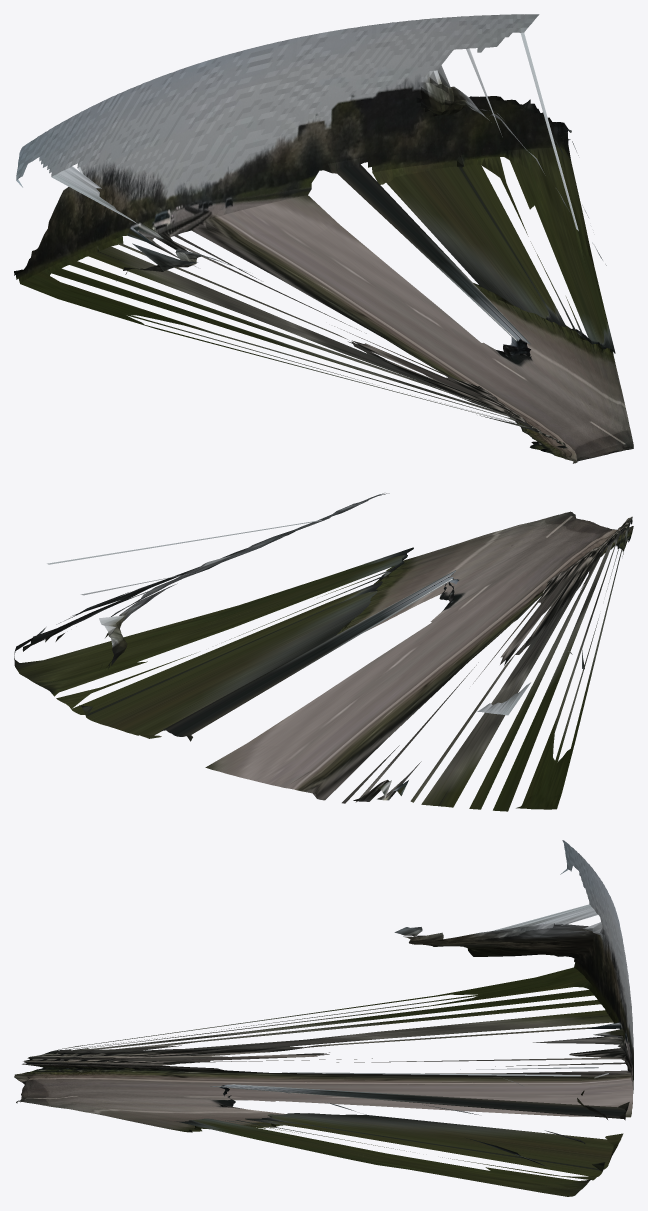
3 views of the same model, one above another, from view 1: azimuth 30°, elevation 25°; view 2: azimuth 150°, elevation 25°; view 3: azimuth 270°, elevation 25° (orthographic). The views are drawn at different scales.
Parts seen in each view (by area): view 1: defaultobject; view 2: defaultobject; view 3: defaultobject.
Boxes of the visible parts, <box> form: defaultobject: <box>14,14,633,463</box>; defaultobject: <box>14,493,633,811</box>; defaultobject: <box>14,840,633,1196</box>.
Size of the model in its own units: 40.94 by 12.08 by 44.82.
1 material, 1 textured.
